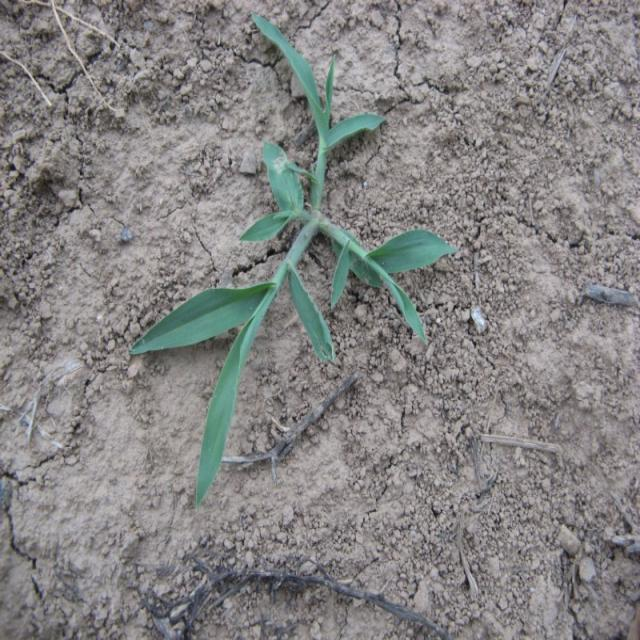bg: (139, 15, 457, 496)
